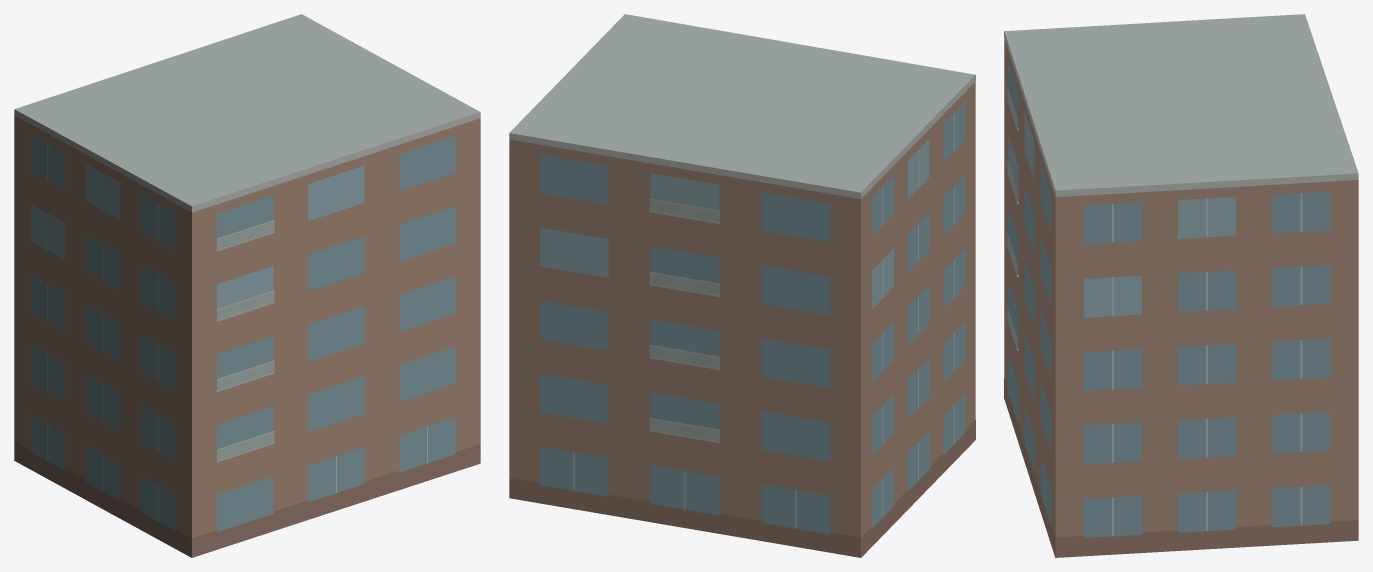
File: survey-upis-32615621.glb
The picture shows the model from 3 angles, left to right: view 1: azimuth 30°, elevation 25°; view 2: azimuth 150°, elevation 25°; view 3: azimuth 270°, elevation 25°; orthographic projection. The views are drawn at different scales.
Visible parts, largest first — view 1: survey-upis-32615621.tmp; view 2: survey-upis-32615621.tmp; view 3: survey-upis-32615621.tmp.
Part boxes in pixels (left/top/right/bottom): survey-upis-32615621.tmp: left=14, top=14, right=480, bottom=557; survey-upis-32615621.tmp: left=509, top=14, right=975, bottom=557; survey-upis-32615621.tmp: left=1004, top=14, right=1358, bottom=557.
Bounding box in the file's own units: 14.26 × 13.8 × 12.09.
